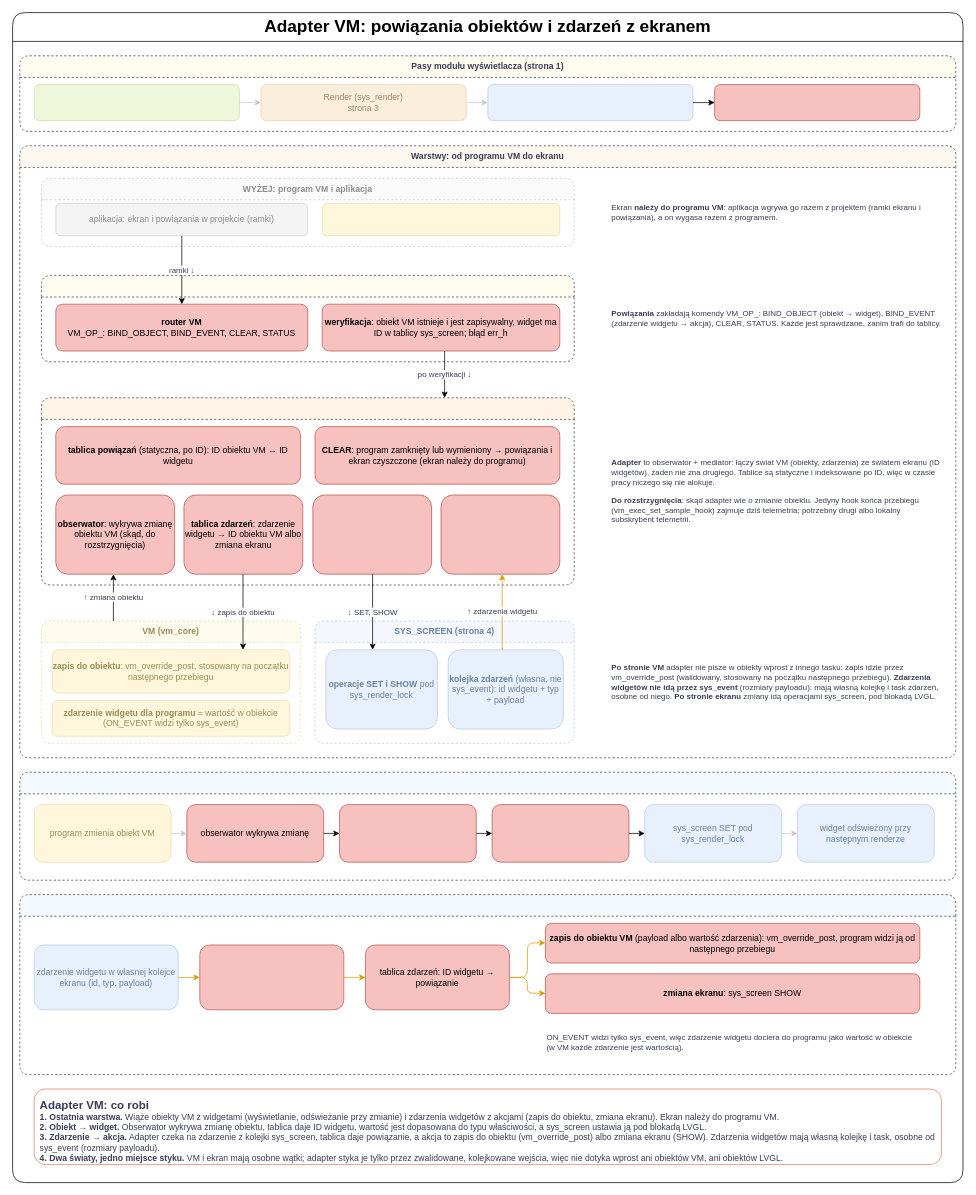
This 976x1195 diagram has some shape labels left out. Each missing label, with the box of its shape:
Adapter dla VM obserwator + mediator: ta strona: (714, 84, 920, 121)
ADAPTER VM: obserwator + mediator: (41, 397, 574, 585)
dostosowanie do widgetu : wartość obiektu → typ właściwości widgetu: (312, 494, 432, 574)
dostosowanie wartości do właściwości widgetu: (491, 804, 629, 862)
Obiekt VM → widget: wyświetlanie i odświeżanie przy zmianie: (19, 771, 956, 880)
program VM: obiekty, bloki, blok ON_EVENT: (321, 203, 560, 236)
ROUTER VM: komendy powiązań: (41, 275, 574, 362)
SCREEN Z BYTESTREAM (sys_screen) strona 4: (487, 84, 693, 121)
tablica powiązań: ID obiektu → ID widgetu: (339, 804, 476, 862)
task zdarzeń : czeka na własną kolejkę zdarzeń ekranu (osobną od sys_event): (440, 494, 560, 574)
task zdarzeń czeka na kolejkę: (199, 944, 344, 1010)
WYŚWIETLACZ + DOTYK kontrakty i sterowniki (strona 2): (33, 84, 239, 121)
Zdarzenie widgetu → akcja: (19, 894, 956, 1075)
